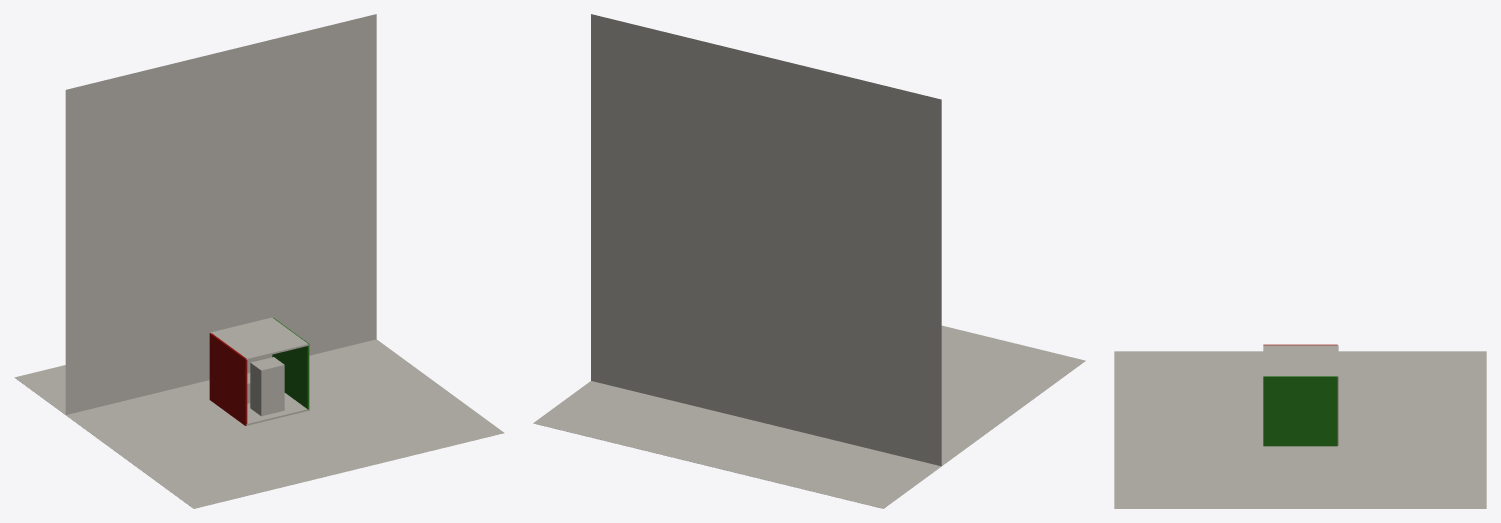
The model's file is static_obj_1.obj.
The picture shows the model from 3 angles, left to right: view 1: azimuth 30°, elevation 25°; view 2: azimuth 150°, elevation 25°; view 3: azimuth 270°, elevation 25°; orthographic projection. The views are drawn at different scales.
Parts seen in each view (by area): view 1: wall, ground, left_wall, ceiling, tall_box, right_wall, floor; view 2: wall, ground; view 3: ground, right_wall, ceiling.
Part boxes in pixels (x1=…): wall: x1=65, y1=14, x2=376, y2=414; ground: x1=14, y1=339, x2=504, y2=508; left_wall: x1=209, y1=333, x2=247, y2=425; ceiling: x1=212, y1=318, x2=308, y2=360; tall_box: x1=250, y1=357, x2=284, y2=416; right_wall: x1=272, y1=317, x2=309, y2=410; floor: x1=246, y1=393, x2=308, y2=425; wall: x1=591, y1=14, x2=941, y2=466; ground: x1=533, y1=325, x2=1085, y2=508; ground: x1=1114, y1=351, x2=1486, y2=508; right_wall: x1=1263, y1=376, x2=1337, y2=446; ceiling: x1=1263, y1=345, x2=1337, y2=376.
Bounding box in the file's own units: 2650 × 2650 × 2650.
